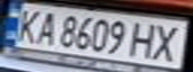0: (90, 16, 112, 53)
6: (72, 15, 93, 52)
8: (54, 12, 78, 48)
9: (106, 17, 133, 56)
A: (30, 8, 60, 46)
H: (127, 19, 163, 60)
K: (12, 6, 45, 44)
X: (148, 21, 187, 63)
